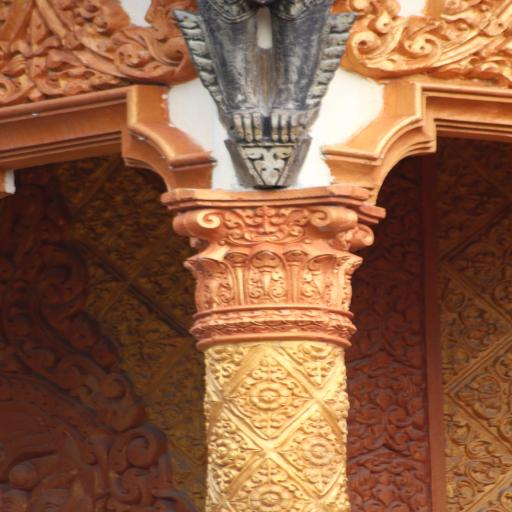hoa: (446, 402, 512, 505), (90, 173, 170, 255), (433, 278, 502, 370), (234, 356, 307, 428), (104, 302, 171, 373), (456, 356, 512, 439), (149, 372, 208, 444), (289, 422, 343, 484), (202, 420, 257, 477), (470, 236, 512, 306), (246, 470, 294, 512)
la: (0, 0, 197, 79), (362, 0, 512, 75)
